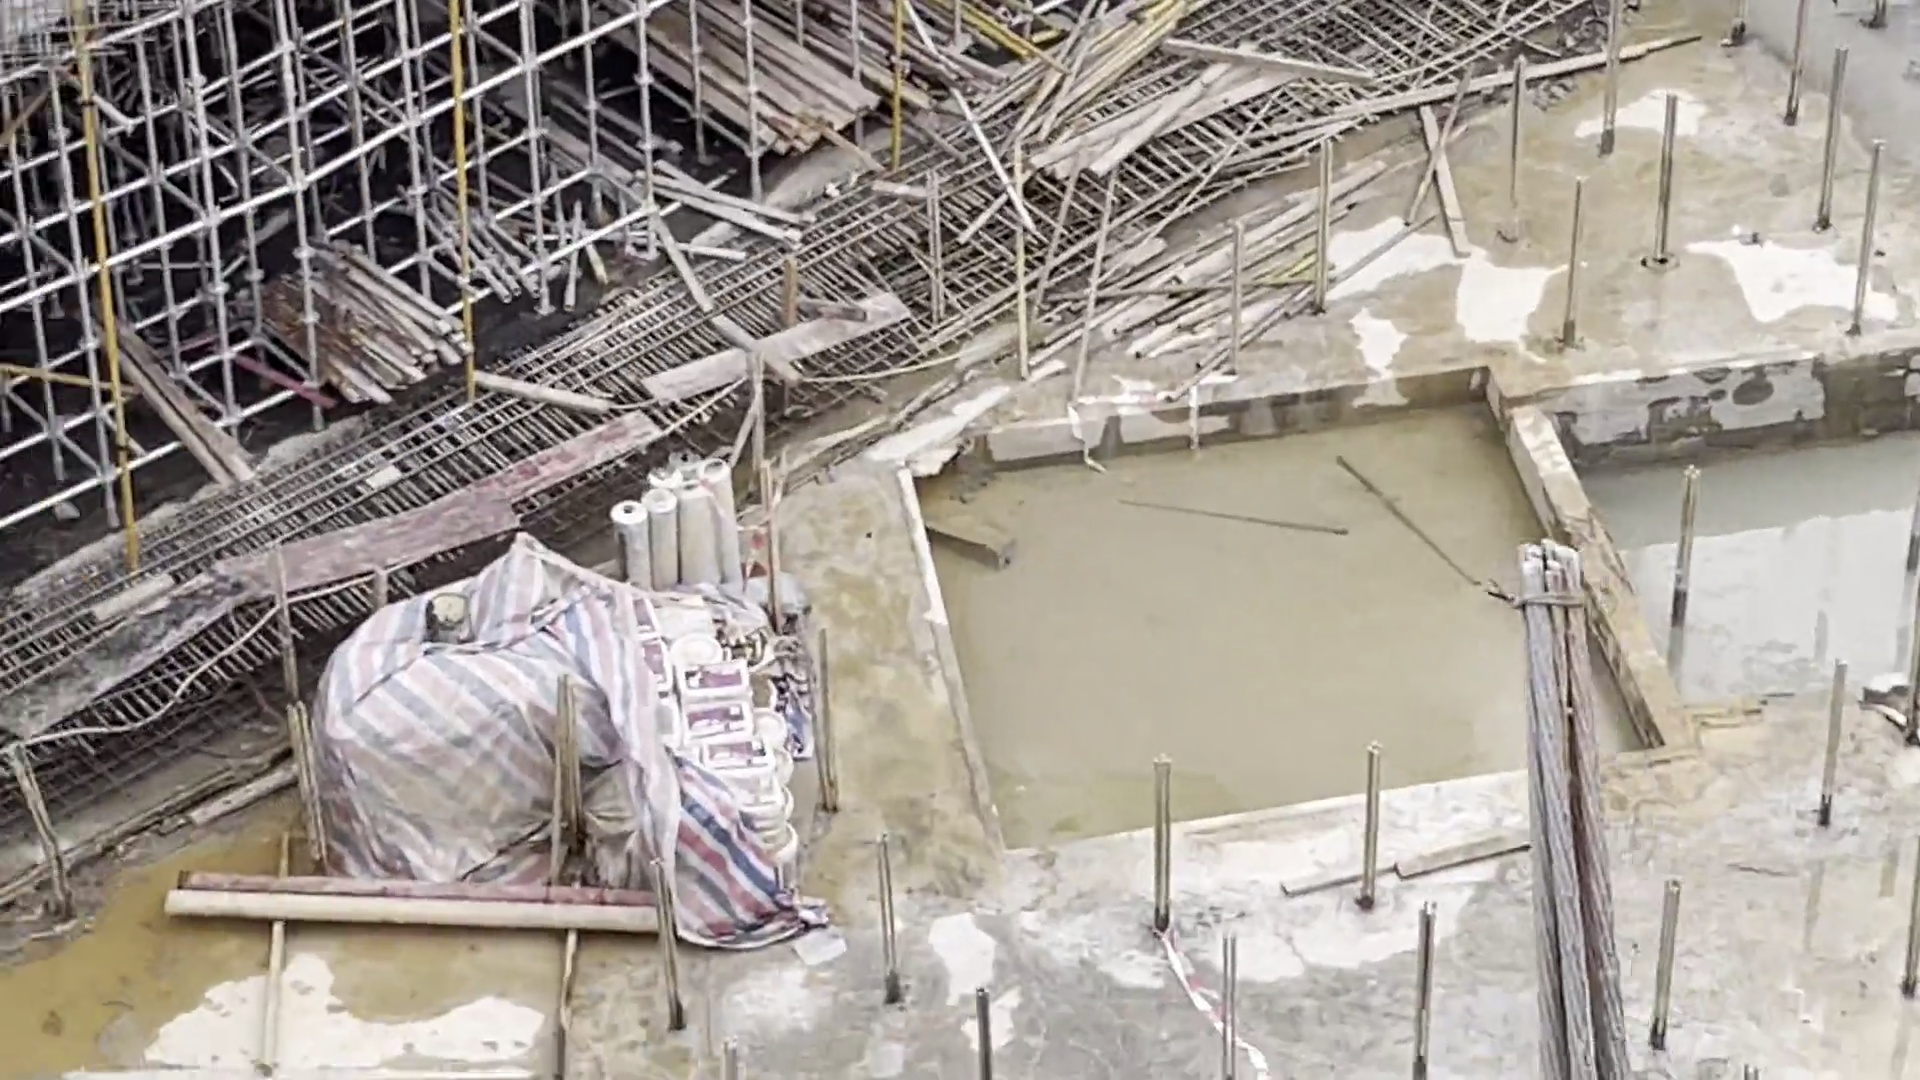wood: (597, 1, 902, 146), (244, 239, 473, 404)
